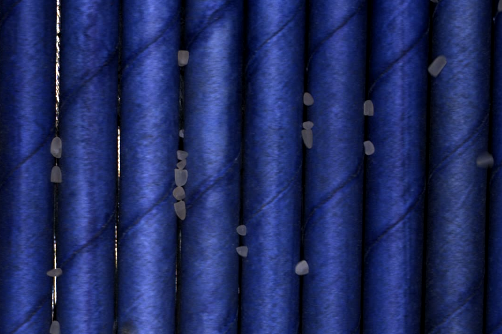broken_grain: (426, 54, 449, 78), (48, 163, 64, 187), (172, 200, 188, 223), (174, 166, 189, 188), (176, 48, 192, 68), (300, 128, 314, 150), (362, 139, 377, 158), (362, 99, 375, 119), (170, 186, 186, 202), (236, 245, 251, 260), (302, 91, 314, 108), (45, 267, 64, 277), (49, 319, 61, 334), (175, 149, 189, 160), (302, 121, 316, 132), (236, 224, 247, 237), (175, 159, 188, 169)
complete_grain: (50, 135, 64, 160)
milky_broken_grain: (295, 257, 310, 279)
